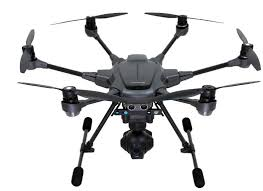Drone: (8, 7, 257, 189)
